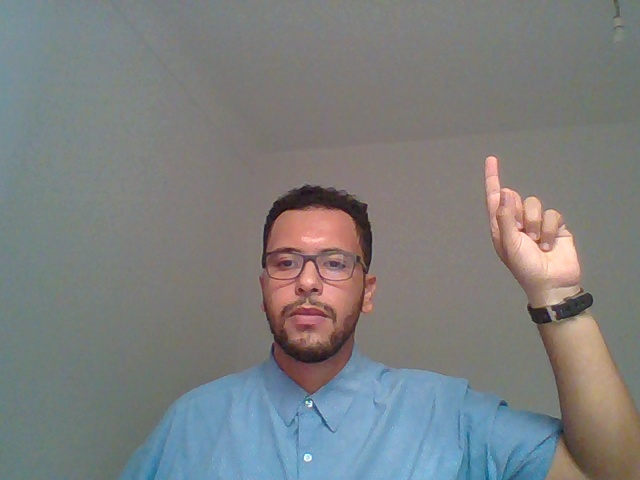handup: (448, 124, 636, 421)
